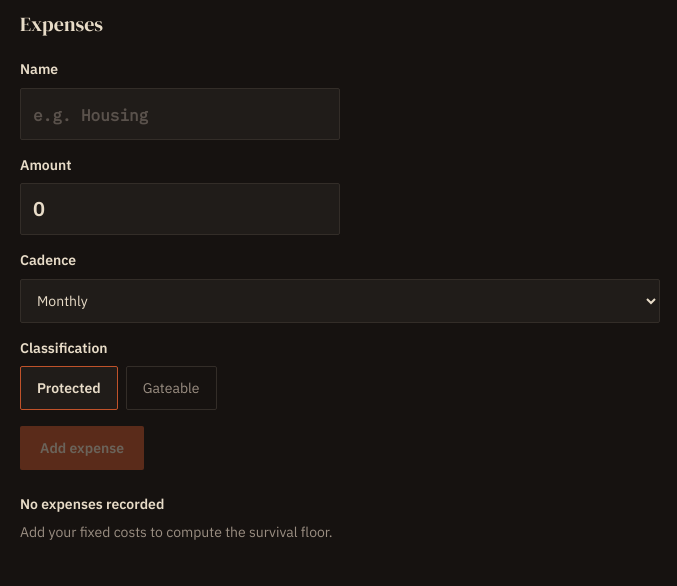
ExpensesPage › shows EXP-07 advisory when name contains "whey protein"
In the field labelled "Name": (180, 114) [20,88,340,140], type "whey protein"
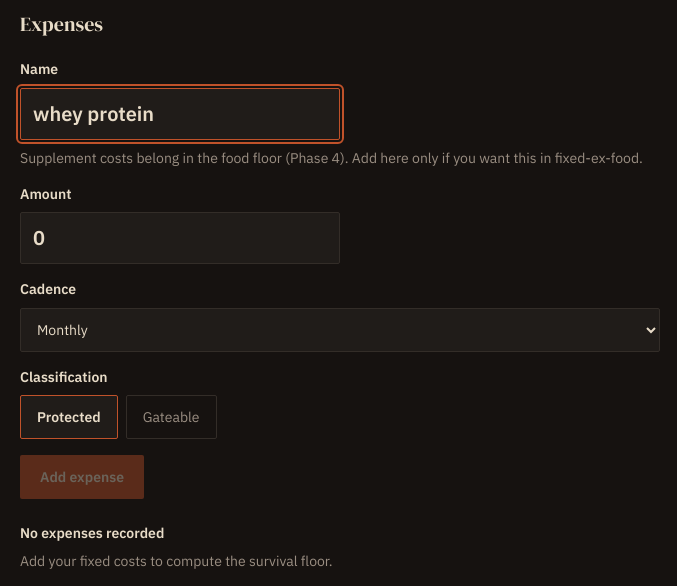
expect the text "Supplement costs belong in the food floor" is shown: met, box [20,149,643,167]
